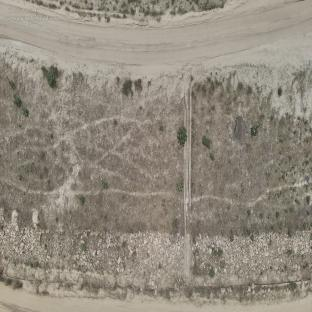rock_toe: (0, 225, 181, 278), (193, 229, 311, 279)
slope_drain: (182, 79, 192, 283)
toe_drain: (1, 263, 311, 293)
